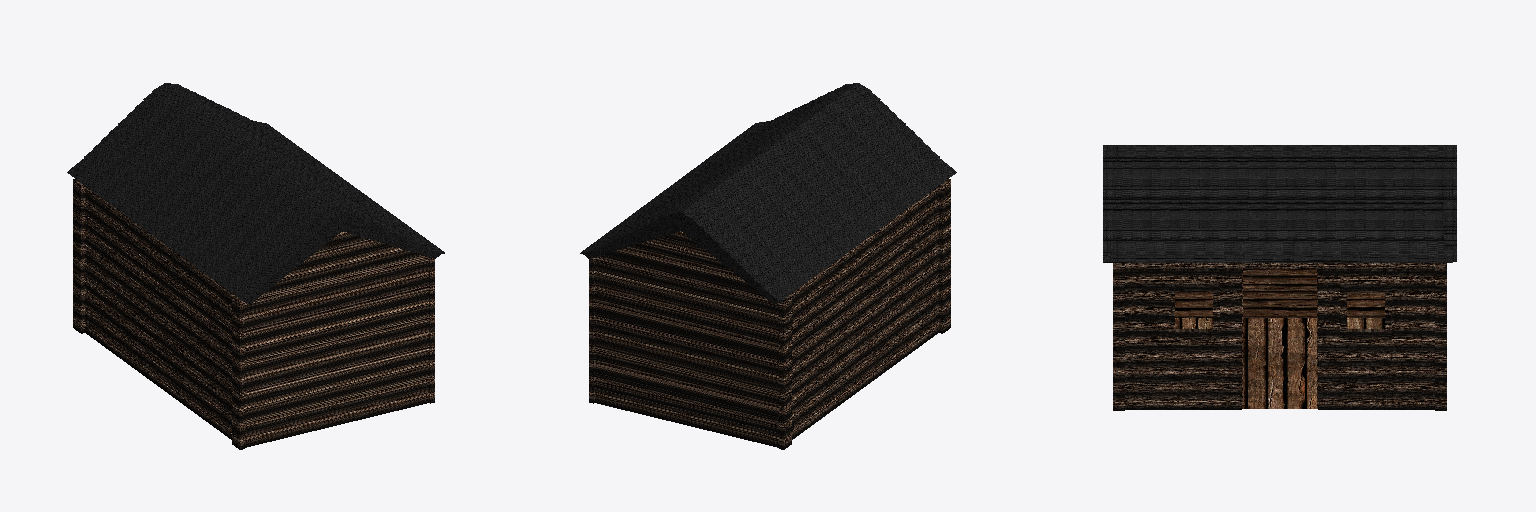
3 views of the same model, side by side, from view 1: azimuth 30°, elevation 25°; view 2: azimuth 150°, elevation 25°; view 3: azimuth 270°, elevation 25° (orthographic).
Parts seen in each view (by area): view 1: ShedOutside.001, Roof.001; view 2: ShedOutside.001, Roof.001; view 3: Roof.001, ShedOutside.001, InsideShed.001.
Part boxes in pixels (bbox=[...]): ShedOutside.001: bbox=[73, 179, 434, 449]; Roof.001: bbox=[67, 83, 444, 303]; ShedOutside.001: bbox=[589, 179, 950, 449]; Roof.001: bbox=[580, 83, 956, 303]; Roof.001: bbox=[1103, 145, 1456, 262]; ShedOutside.001: bbox=[1113, 263, 1446, 410]; InsideShed.001: bbox=[1175, 269, 1384, 408].
Size of the model in its own units: 6.1 by 6.29 by 9.28.
4 materials, 3 textured.